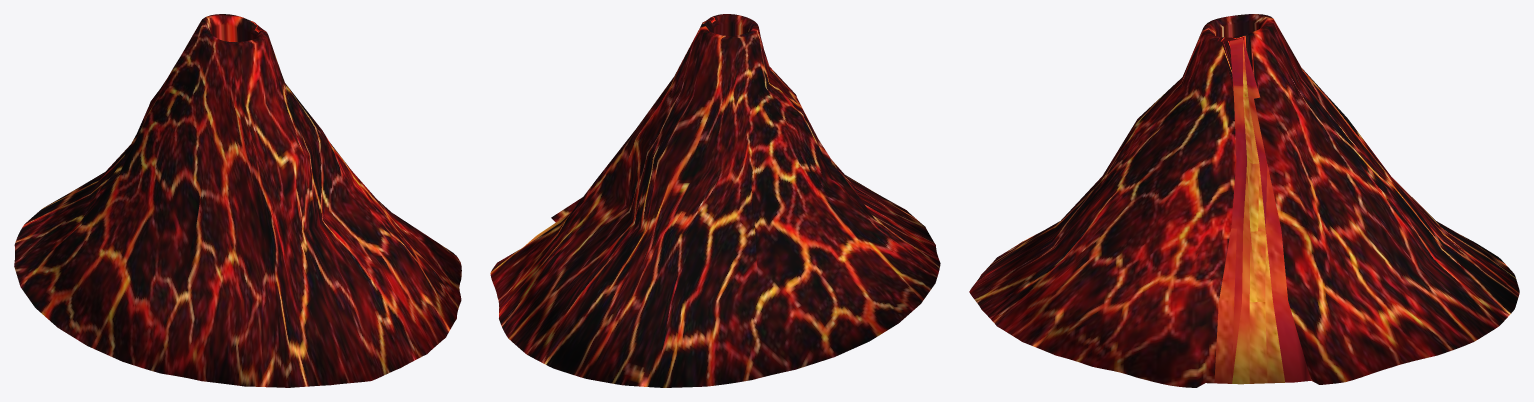
Rendered from volcano.obj.
The picture shows the model from 3 angles, left to right: view 1: azimuth 30°, elevation 25°; view 2: azimuth 150°, elevation 25°; view 3: azimuth 270°, elevation 25°; orthographic projection. The views are drawn at different scales.
Visible parts, largest first — view 1: Cone; view 2: Cone; view 3: Cone.
Part boxes in pixels (<box>): Cone: <box>14,14,461,387</box>; Cone: <box>490,14,940,387</box>; Cone: <box>969,14,1519,387</box>.
Bounding box in the file's own units: 3 × 2 × 3.75.
